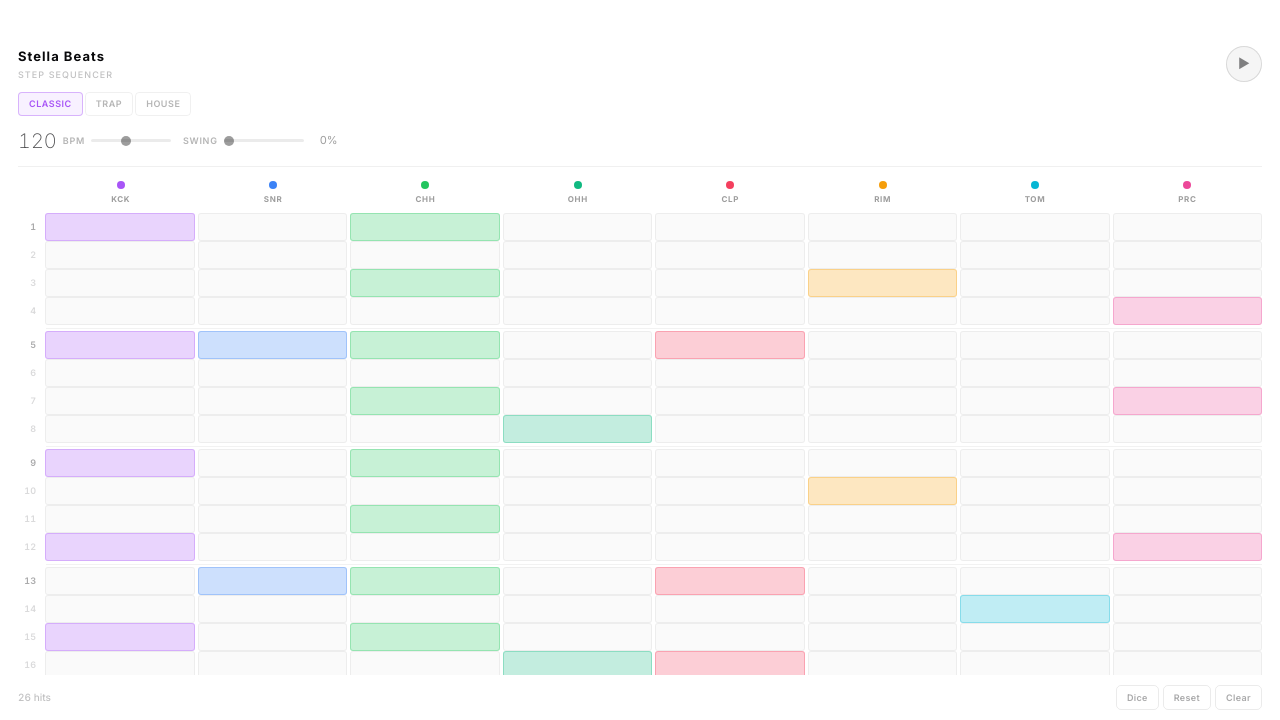
Test: DJStudioDemo › mute/solo › shows S badge when track is soloed
The image size is (1280, 720).
// Solo the kick
Right-click the element with class "seq-col-head" showing "KCK" at x=121, y=192, box [111,180,130,204]
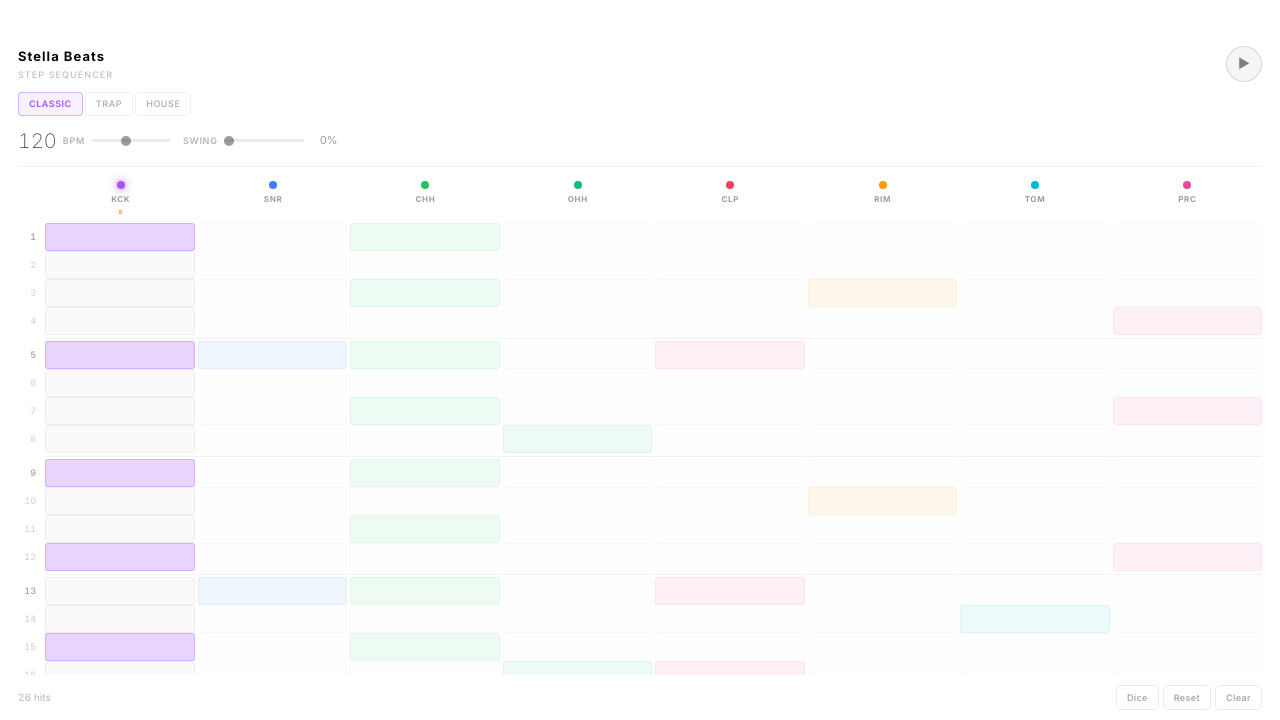
Check: the text with class "seq-col-badge" reads "S", box [118,208,123,214]
